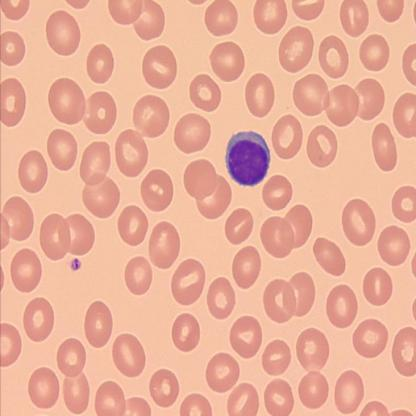Lymphocyte: (224, 129, 271, 187)
